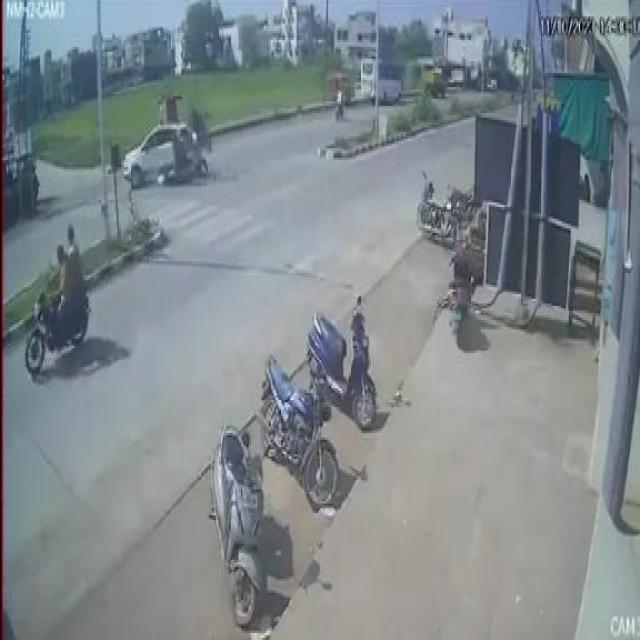accident: (123, 109, 215, 203)
